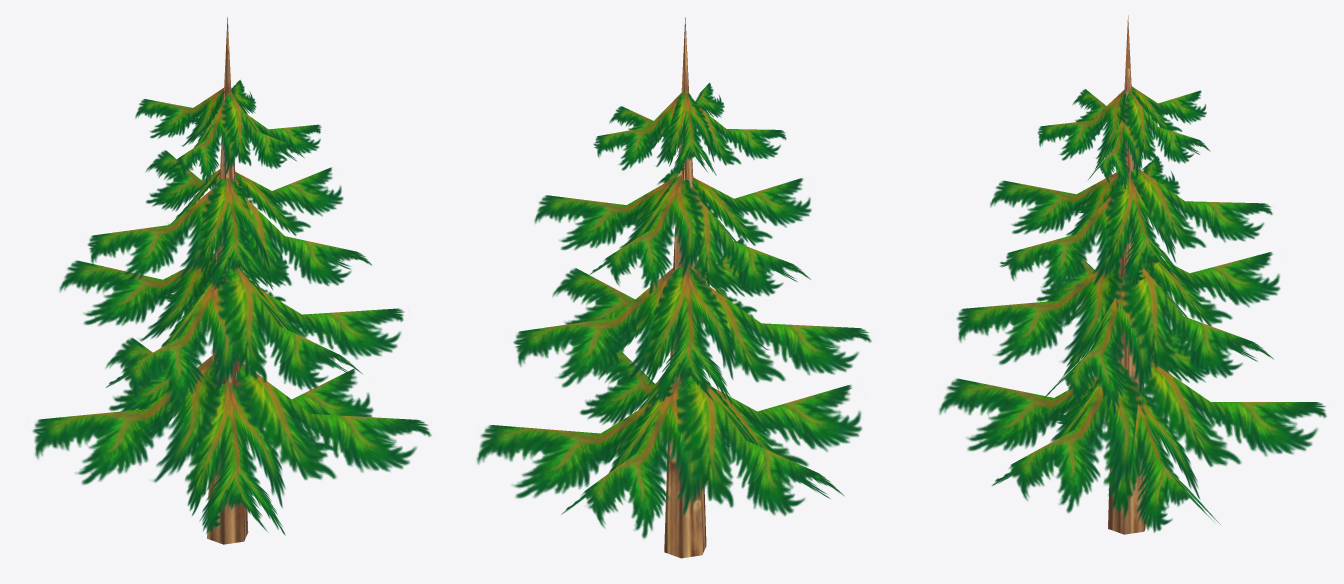
3 views of the same model, side by side, from view 1: azimuth 30°, elevation 25°; view 2: azimuth 150°, elevation 25°; view 3: azimuth 270°, elevation 25° (orthographic). The views are drawn at different scales.
Visible parts, largest first — view 1: branches, trunk; view 2: branches, trunk; view 3: branches, trunk.
Boxes of the visible parts, <box> form: branches: <box>25,80,431,535</box>; trunk: <box>207,17,248,544</box>; branches: <box>476,82,871,538</box>; trunk: <box>664,17,706,558</box>; branches: <box>939,86,1326,532</box>; trunk: <box>1108,15,1147,534</box>.
Bounding box in the file's own units: 259 × 350 × 252.
Materials: 2 (2 with a texture image).
